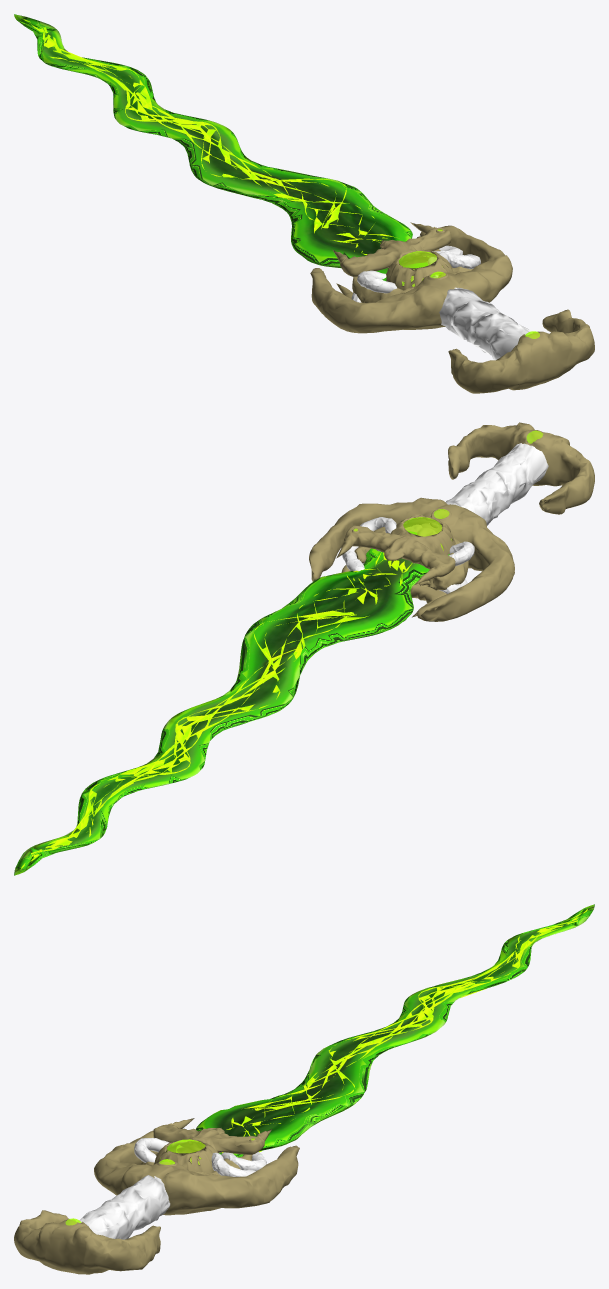
File: earth-sword.glb
The picture shows the model from 3 angles, top to bottom: view 1: azimuth 30°, elevation 25°; view 2: azimuth 150°, elevation 25°; view 3: azimuth 330°, elevation 25°; orthographic projection.
Parts seen in each view (by area): view 1: Retopo_Cube, Green Snake Sword.001, Retopo_Sphere.011, BezierCurve.005, Retopo_Sphere.002, Retopo_Cylinder, Retopo_Sphere.007, Retopo_Sphere.009, Sphere, Retopo_Sphere.003; view 2: Retopo_Cube, Green Snake Sword.001, Retopo_Sphere.011, BezierCurve.005, Retopo_Sphere.002, Retopo_Cylinder, Retopo_Sphere.007, Sphere; view 3: Retopo_Cube, Green Snake Sword.001, Retopo_Sphere.011, BezierCurve.005, Retopo_Sphere.002, Retopo_Cylinder, Retopo_Sphere.009, Retopo_Sphere.003, Retopo_Sphere.001.
Part boxes in pixels (<box>): Retopo_Cube: <box>14,14,427,280</box>; Green Snake Sword.001: <box>310,225,512,333</box>; Retopo_Sphere.011: <box>448,309,594,393</box>; BezierCurve.005: <box>23,19,396,255</box>; Retopo_Sphere.002: <box>333,222,453,298</box>; Retopo_Cylinder: <box>432,275,531,360</box>; Retopo_Sphere.007: <box>352,249,472,302</box>; Retopo_Sphere.009: <box>357,270,396,293</box>; Sphere: <box>399,251,436,286</box>; Retopo_Sphere.003: <box>428,252,480,269</box>; Retopo_Cube: <box>14,531,449,875</box>; Green Snake Sword.001: <box>309,497,514,621</box>; Retopo_Sphere.011: <box>448,422,594,514</box>; BezierCurve.005: <box>21,552,412,868</box>; Retopo_Sphere.002: <box>336,515,455,617</box>; Retopo_Cylinder: <box>445,443,548,525</box>; Retopo_Sphere.007: <box>354,525,468,590</box>; Sphere: <box>403,517,451,550</box>; Retopo_Cube: <box>196,904,594,1157</box>; Green Snake Sword.001: <box>94,1130,299,1215</box>; Retopo_Sphere.011: <box>14,1210,160,1274</box>; BezierCurve.005: <box>222,909,587,1152</box>; Retopo_Sphere.002: <box>153,1118,272,1172</box>; Retopo_Cylinder: <box>79,1163,173,1239</box>; Retopo_Sphere.009: <box>134,1137,169,1162</box>; Retopo_Sphere.003: <box>211,1152,255,1176</box>; Retopo_Sphere.001: <box>221,1151,266,1171</box>.
Size of the model in its own units: 0.2412 by 0.0897 by 1.31.
6 materials, 1 textured.
